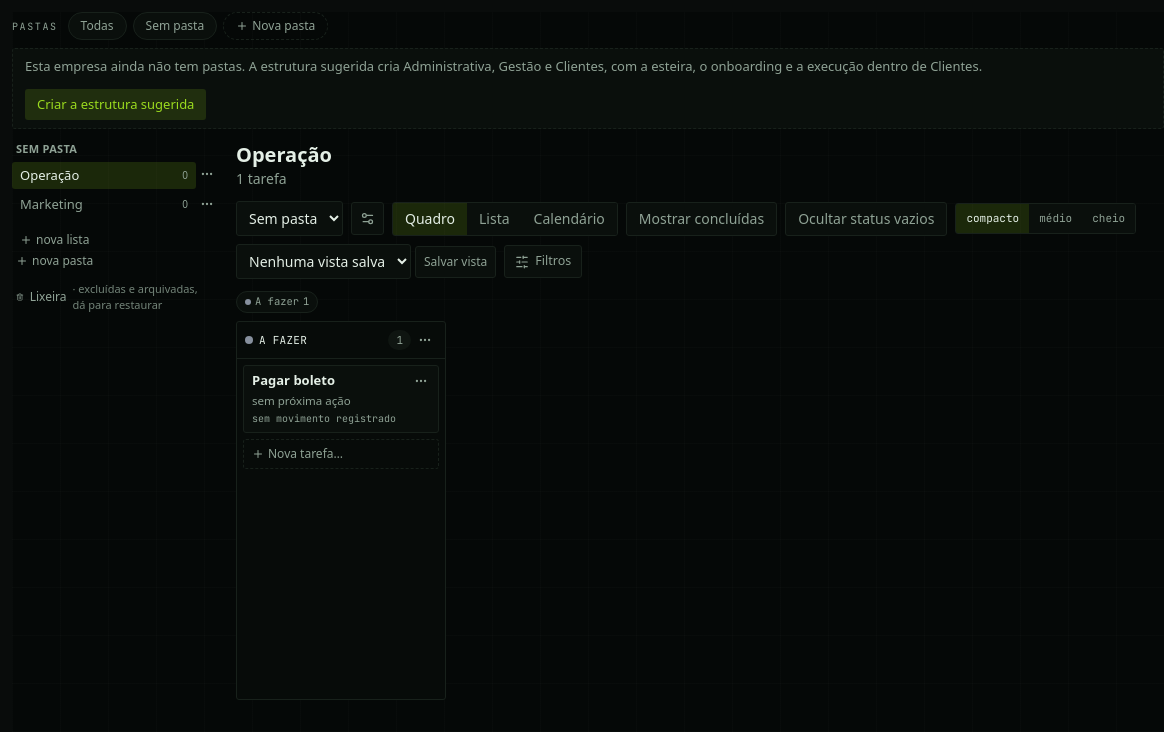
Scenario: I4: o menu da tarefa › botão direito no cartão abre o menu por portal com as 8 ações
Right-click the element "Pagar boleto".
right_click(341, 399)  # box top-left (243, 365), bottom-right (439, 433)
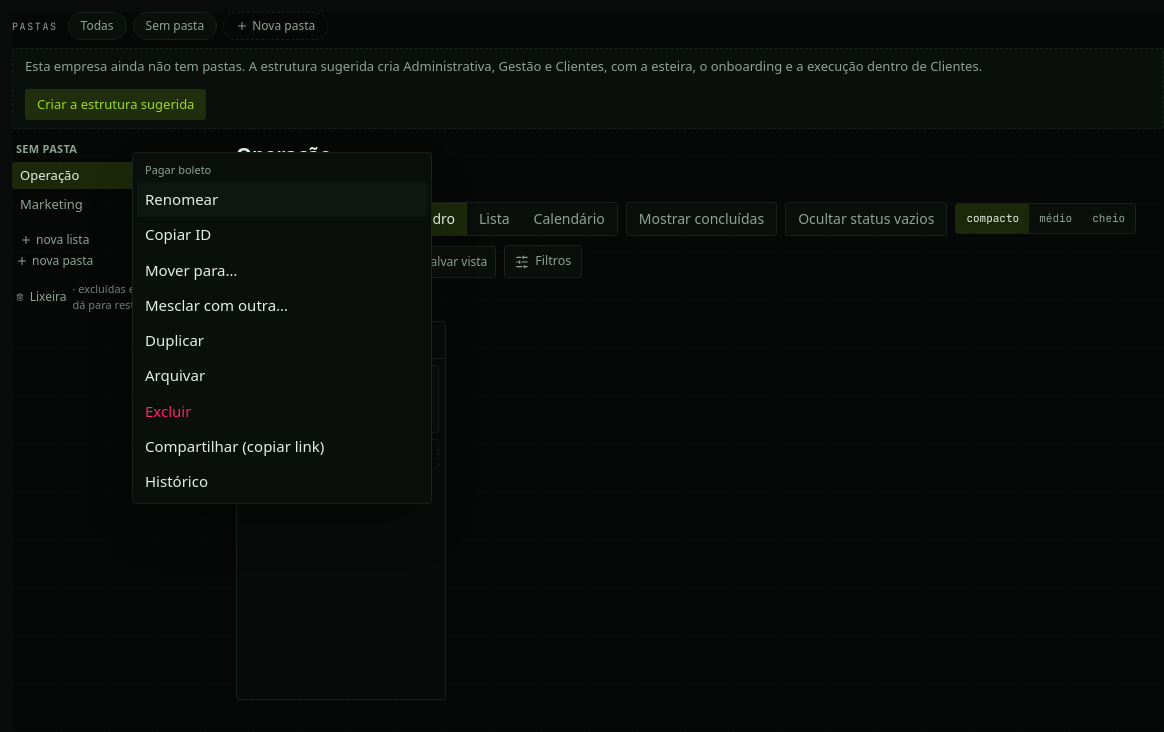
Press Escape
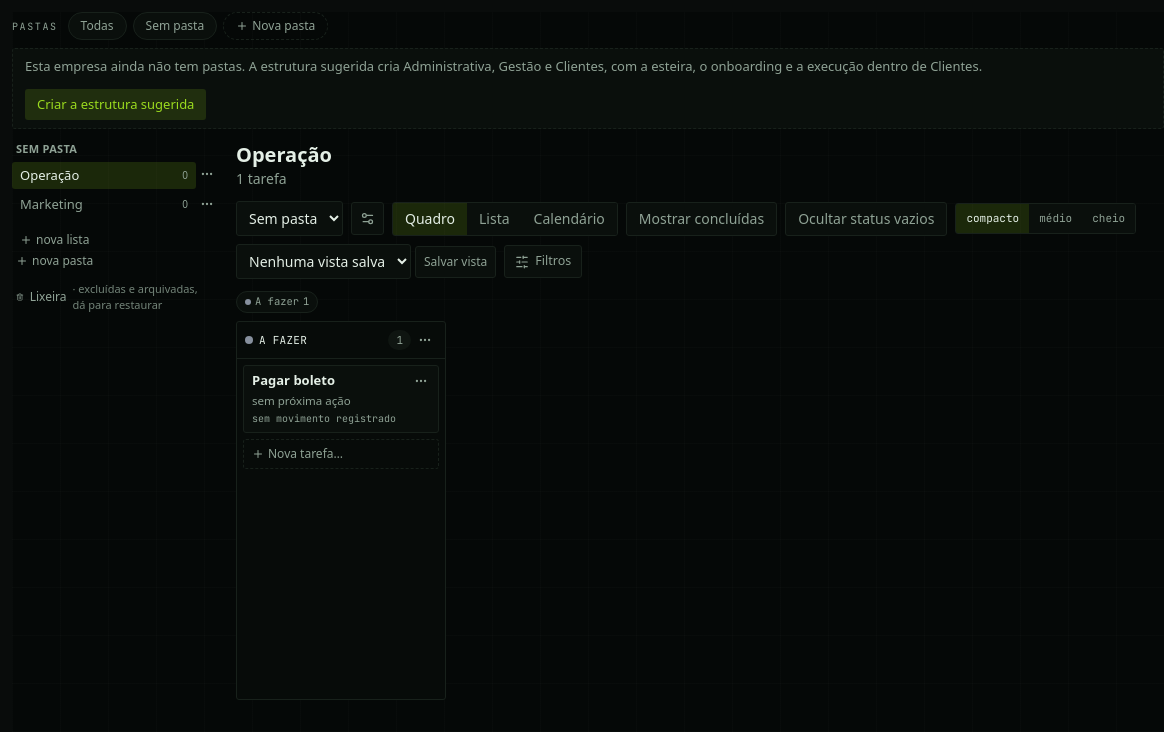
Expected: the menu with test id "menu-da-tarefa" is gone
